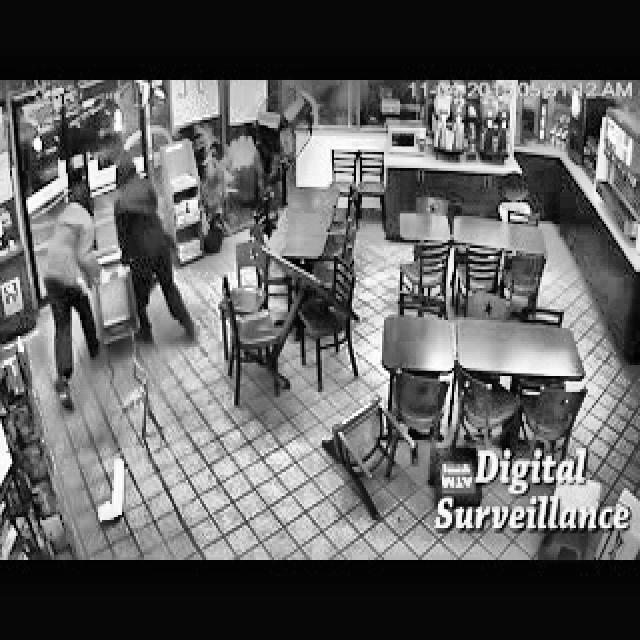burglary: (110, 153, 202, 350), (38, 183, 110, 415)
